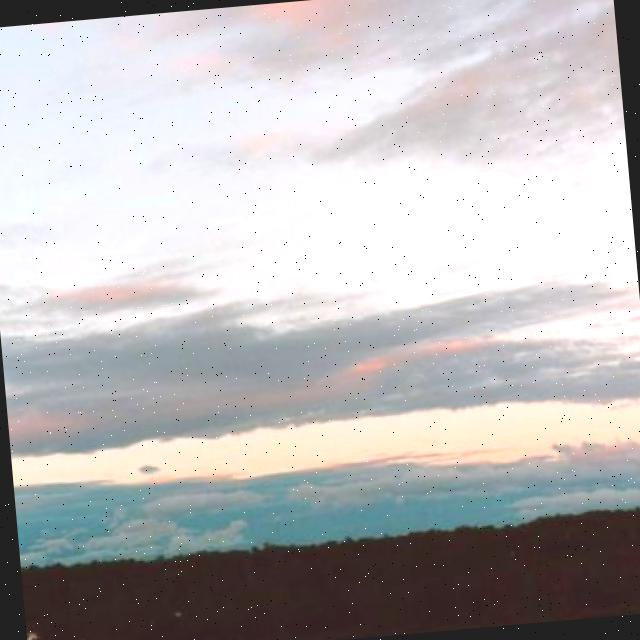St: (1, 46, 640, 496)
